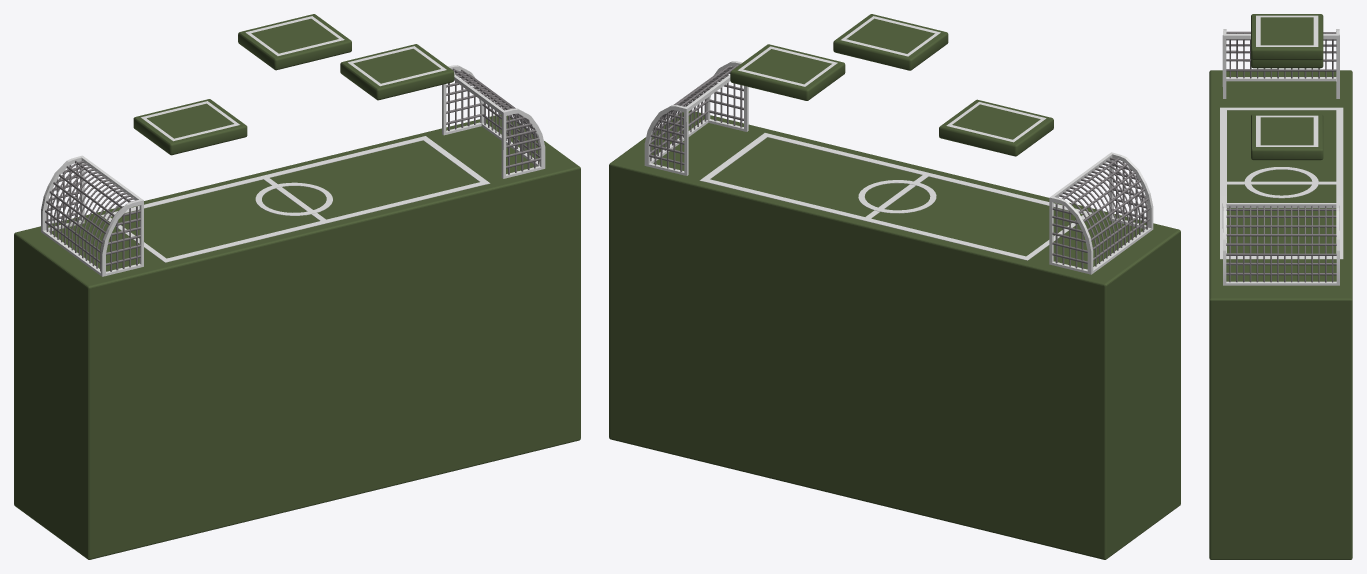
The model's file is 3D_Brazil_Level.fbx.
The picture shows the model from 3 angles, left to right: view 1: azimuth 30°, elevation 25°; view 2: azimuth 150°, elevation 25°; view 3: azimuth 270°, elevation 25°; orthographic projection. The views are drawn at different scales.
Parts seen in each view (by area): view 1: Soccer Field, Net 1, Field Lines, Brazilian Platform 1, Brazilian Platform 3, Brazilian Platform 2, Net 2, Goal 1, Goal 2; view 2: Soccer Field, Net 1, Field Lines, Brazilian Platform 2, Brazilian Platform 3, Brazilian Platform 1, Net 2, Goal 1, Goal 2; view 3: Soccer Field, Net 2, Field Lines, Brazilian Platform 2, Brazilian Platform 3, Goal 2, Goal 1, Net 1, Brazilian Platform 1.
Part boxes in pixels (x1=…): Soccer Field: x1=14, y1=114, x2=580, y2=559; Net 1: x1=45, y1=160, x2=141, y2=271; Field Lines: x1=101, y1=136, x2=490, y2=262; Brazilian Platform 1: x1=133, y1=99, x2=247, y2=155; Brazilian Platform 3: x1=340, y1=44, x2=454, y2=100; Brazilian Platform 2: x1=238, y1=14, x2=351, y2=70; Net 2: x1=446, y1=68, x2=541, y2=174; Goal 1: x1=41, y1=155, x2=143, y2=276; Goal 2: x1=442, y1=65, x2=545, y2=178; Soccer Field: x1=609, y1=111, x2=1180, y2=559; Net 1: x1=1052, y1=157, x2=1149, y2=269; Field Lines: x1=699, y1=133, x2=1092, y2=260; Brazilian Platform 2: x1=833, y1=14, x2=948, y2=70; Brazilian Platform 3: x1=730, y1=44, x2=845, y2=100; Brazilian Platform 1: x1=939, y1=99, x2=1053, y2=156; Net 2: x1=649, y1=64, x2=743, y2=171; Goal 1: x1=1049, y1=152, x2=1153, y2=274; Goal 2: x1=644, y1=61, x2=748, y2=175; Soccer Field: x1=1209, y1=70, x2=1352, y2=559; Net 2: x1=1226, y1=205, x2=1336, y2=282; Field Lines: x1=1220, y1=107, x2=1343, y2=259; Brazilian Platform 2: x1=1251, y1=14, x2=1323, y2=60; Brazilian Platform 3: x1=1251, y1=114, x2=1323, y2=160; Goal 2: x1=1222, y1=203, x2=1339, y2=285; Goal 1: x1=1222, y1=29, x2=1339, y2=98; Net 1: x1=1226, y1=31, x2=1336, y2=78; Brazilian Platform 1: x1=1251, y1=58, x2=1323, y2=68.
Size of the model in its own units: 9721 by 8187 by 2562.
